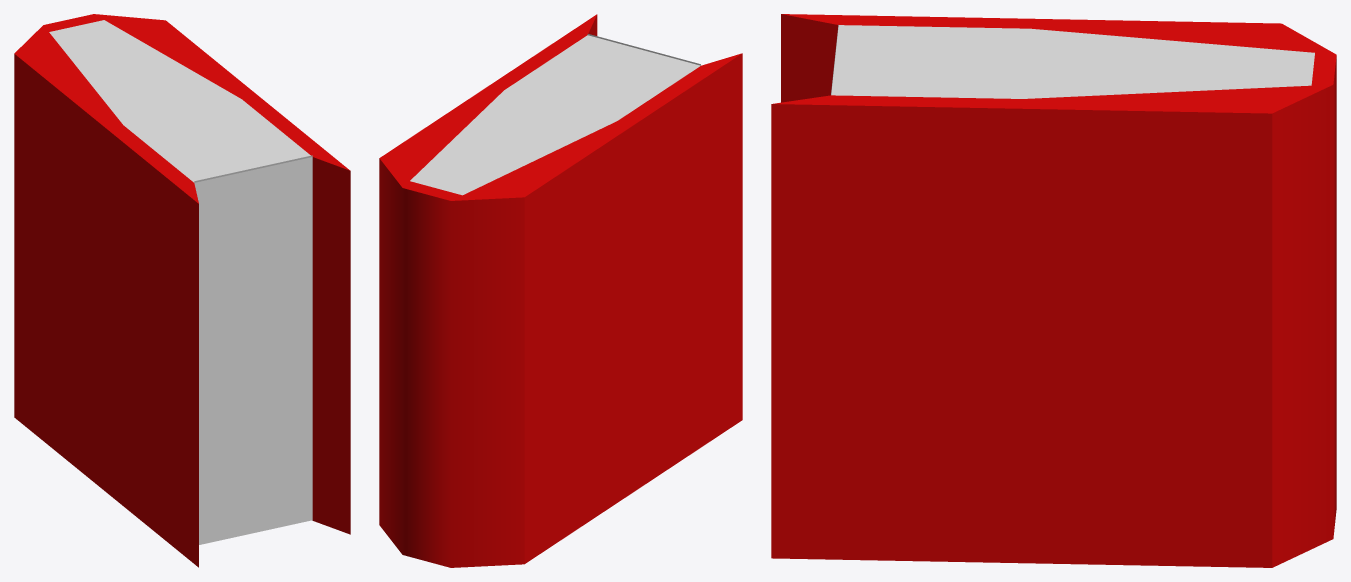
The model's file is Book(Red).fbx.
3 renders of one model, left to right at view 1: azimuth 30°, elevation 25°; view 2: azimuth 150°, elevation 25°; view 3: azimuth 270°, elevation 25°, orthographic. The views are drawn at different scales.
Parts seen in each view (by area): view 1: Book_Red; view 2: Book_Red; view 3: Book_Red.
Boxes of the visible parts, x1=… form: Book_Red: x1=14, y1=14, x2=350, y2=567; Book_Red: x1=379, y1=14, x2=742, y2=567; Book_Red: x1=771, y1=14, x2=1336, y2=567.
Bounding box in the file's own units: 0.1932 × 0.4128 × 0.4635.
